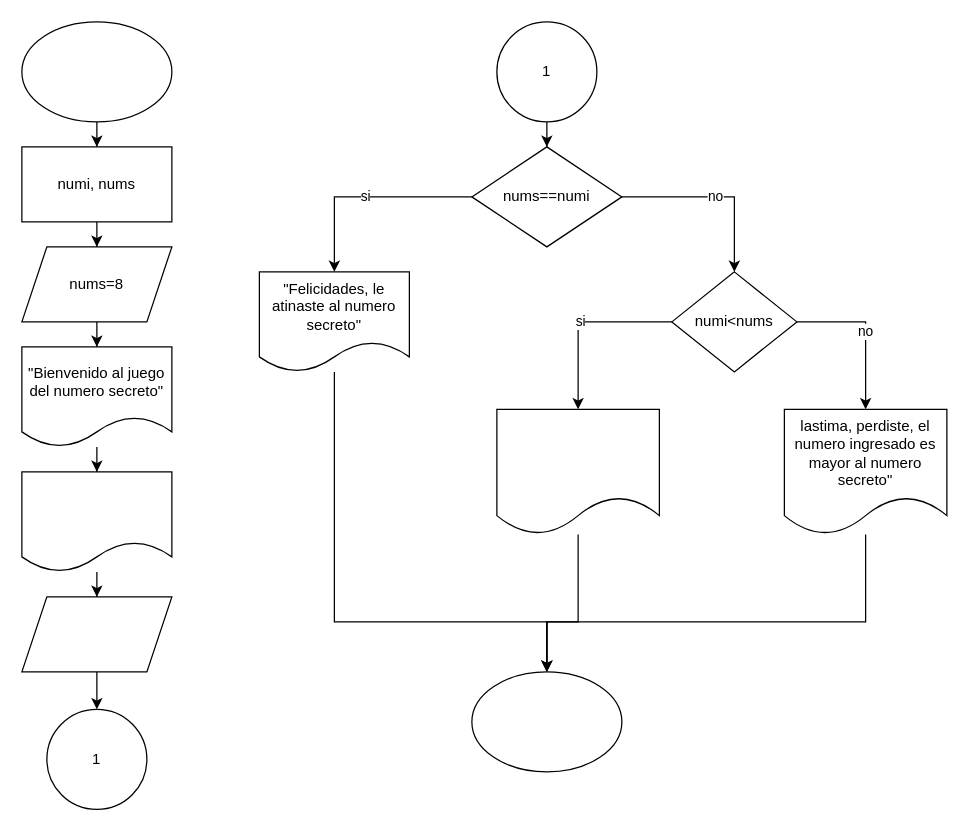
This 969x831 diagram has some shape labels left out. Each missing label, with the centre of its shape:
"ingresa un numero del 1 al 10": [96,521]
fin: [546,721]
inicio: [96,71]
lastima, perdiste, el numero ingresado es menor al numero secreto": [577,471]
numi: [96,634]
